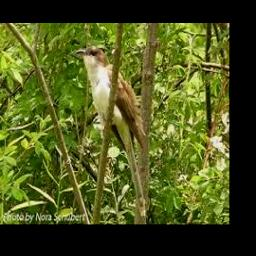Cuckoo: (75, 47, 146, 148)
